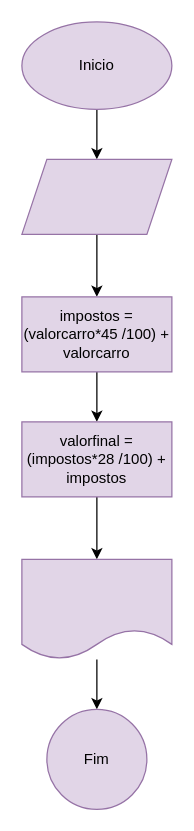
Some shapes in this 194 by 831 pixel diagram are drawn without their labels. Each missing label, with the centre of its shape:
valorcarro: the point at 96,196
valorfinal: the point at 96,608
